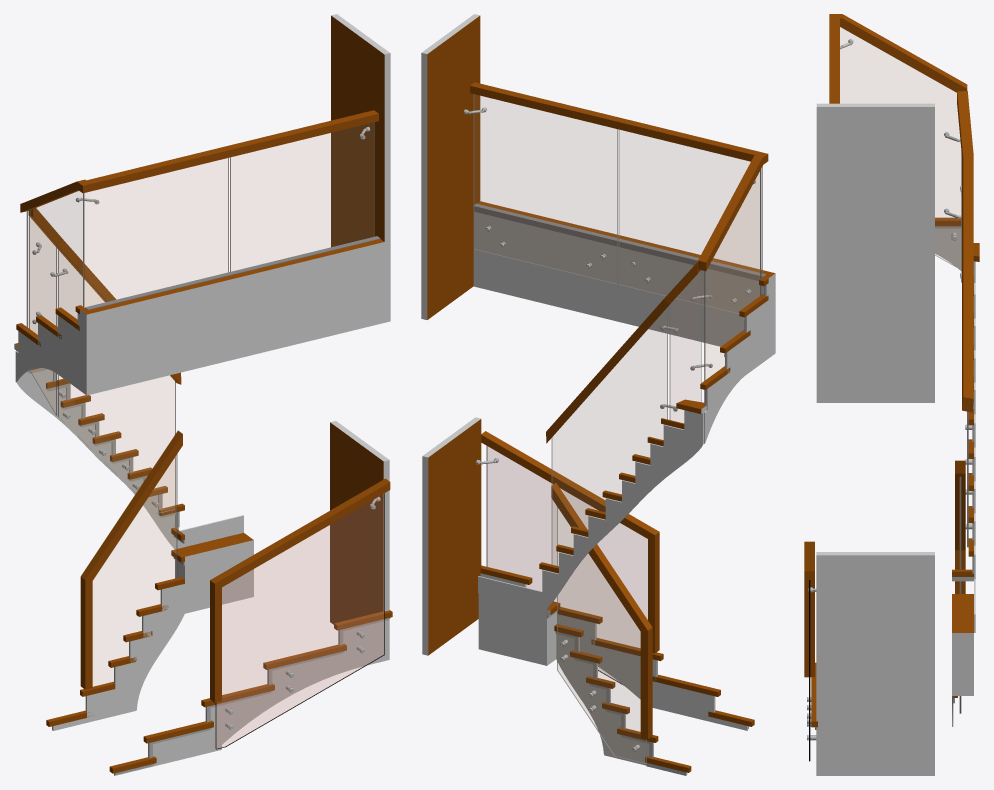
File: 3D Сборка 2.obj
The picture shows the model from 3 angles, left to right: view 1: azimuth 30°, elevation 25°; view 2: azimuth 150°, elevation 25°; view 3: azimuth 270°, elevation 25°; orthographic projection. The views are drawn at different scales.
Bounding box in the file's own units: 2.54 × 5.25 × 1.15.
